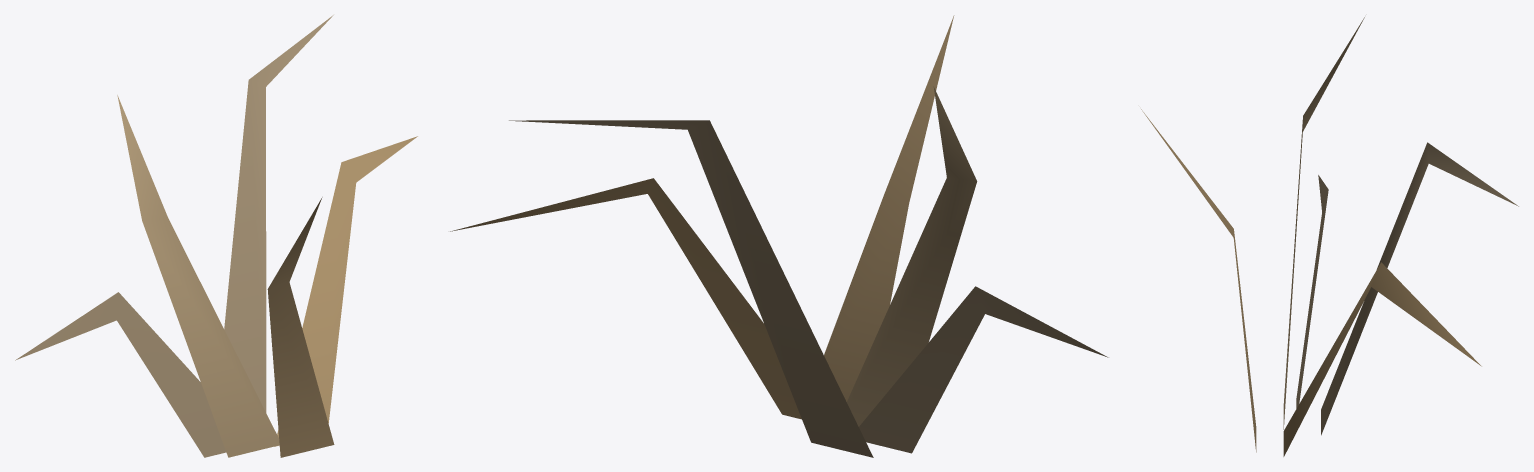
Rendered from Model_Desert_Plants1.fbx.
The picture shows the model from 3 angles, left to right: view 1: azimuth 30°, elevation 25°; view 2: azimuth 150°, elevation 25°; view 3: azimuth 270°, elevation 25°; orthographic projection. The views are drawn at different scales.
Parts seen in each view (by area): view 1: cao1; view 2: cao1; view 3: cao1.
Part boxes in pixels (x1,y1,x2,y2): cao1: (15, 15, 417, 457); cao1: (450, 15, 1108, 457); cao1: (1141, 17, 1518, 456).
Size of the model in its own units: 67.52 by 46.81 by 45.04.
Materials: 1 (1 with a texture image).
